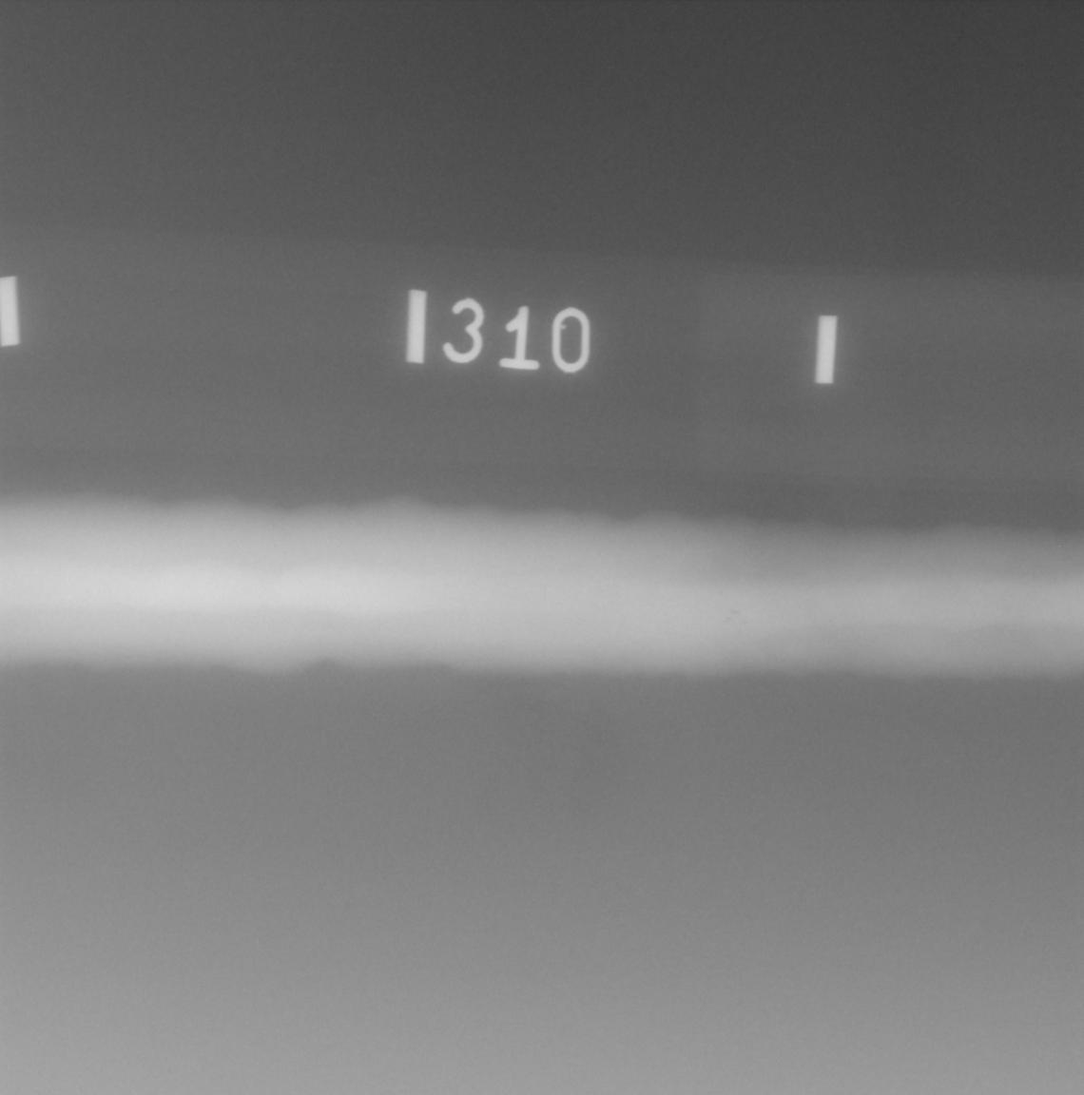Inclusion: (721, 618, 730, 623), (731, 610, 740, 615), (741, 621, 747, 624)
